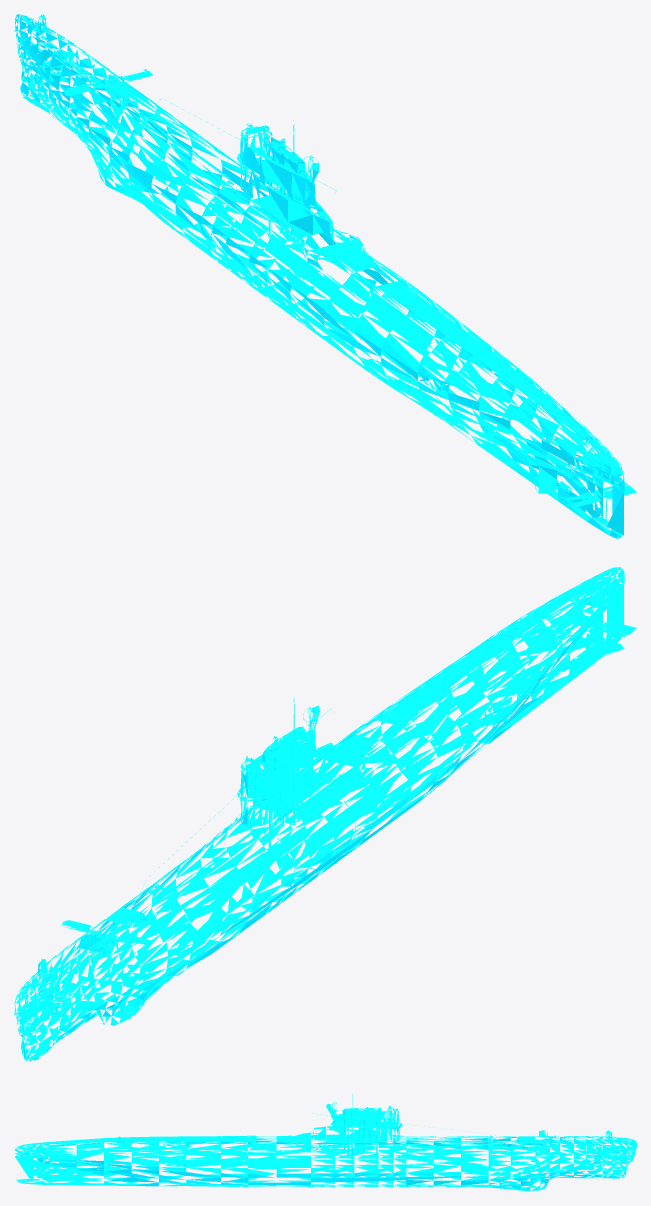
The picture shows the model from 3 angles, top to bottom: view 1: azimuth 30°, elevation 25°; view 2: azimuth 150°, elevation 25°; view 3: azimuth 270°, elevation 25°; orthographic projection. The views are drawn at different scales.
Bounding box in the file's own units: 0.4197 × 0.8893 × 5.07.
